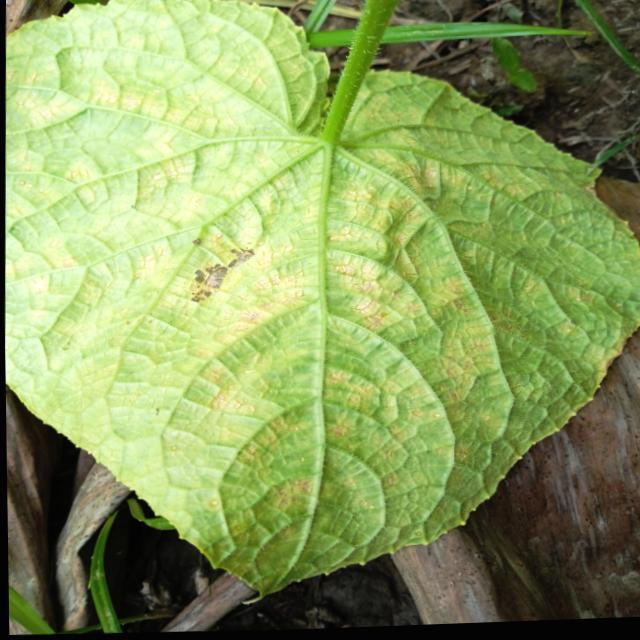Downy-Mildew: (4, 0, 640, 607)
